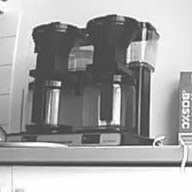empty coffee: (81, 71, 140, 131)
not empty coffee: (25, 79, 76, 135)
